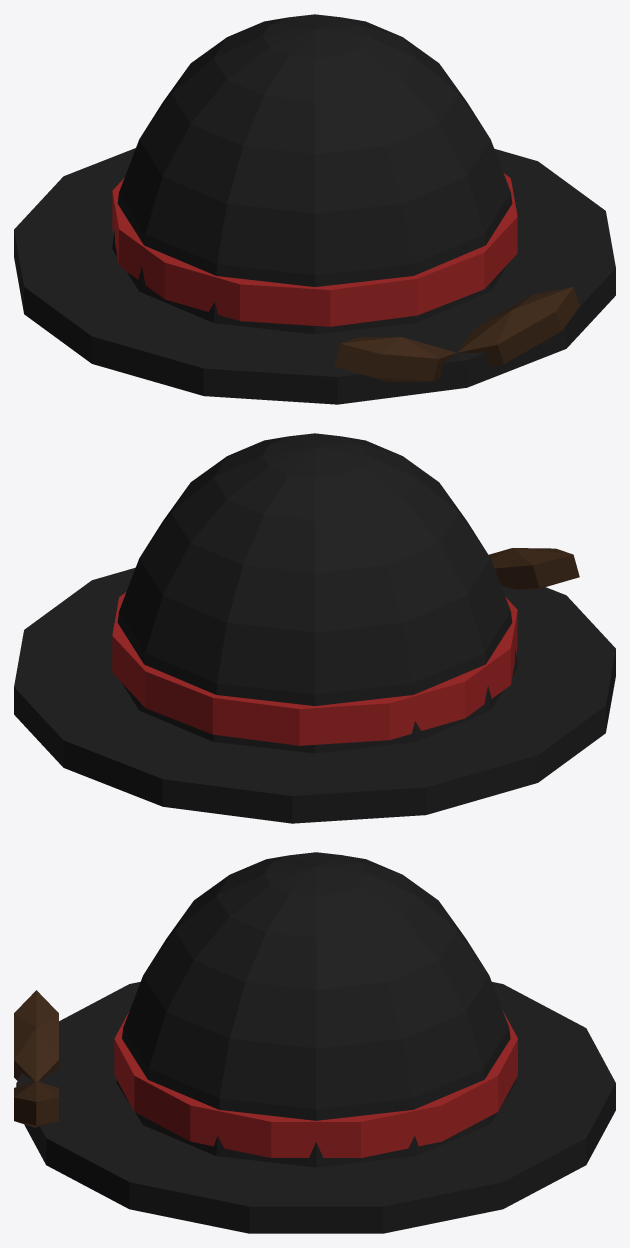
File: cousin_hat.glb
3 renders of one model, top to bottom at view 1: azimuth 30°, elevation 25°; view 2: azimuth 150°, elevation 25°; view 3: azimuth 270°, elevation 25°, orthographic.
Parts seen in each view (by area): view 1: crown_bowler_black, brim_bowler_black, band_band_red, mustache_mustache_brown (×2); view 2: crown_bowler_black, brim_bowler_black, band_band_red, mustache_mustache_brown; view 3: crown_bowler_black, brim_bowler_black, band_band_red, mustache_mustache_brown (×2).
Part boxes in pixels (x1,y1,x2,y2): crown_bowler_black: [112, 14, 512, 334]; brim_bowler_black: [14, 148, 615, 404]; band_band_red: [112, 173, 517, 326]; mustache_mustache_brown (×2): [334, 286, 579, 381]; crown_bowler_black: [117, 433, 517, 753]; brim_bowler_black: [14, 567, 615, 823]; band_band_red: [112, 592, 517, 745]; mustache_mustache_brown: [489, 548, 579, 589]; crown_bowler_black: [116, 852, 515, 1167]; brim_bowler_black: [16, 982, 615, 1233]; band_band_red: [114, 1010, 517, 1157]; mustache_mustache_brown (×2): [14, 990, 58, 1127].
Bounding box in the file's own units: 0.2925 × 0.1345 × 0.3013.
